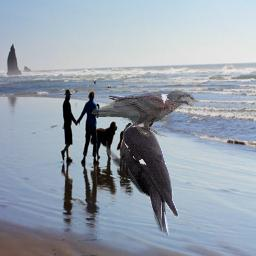Crow: (91, 89, 196, 137)
Woodpecker: (106, 95, 179, 236)
